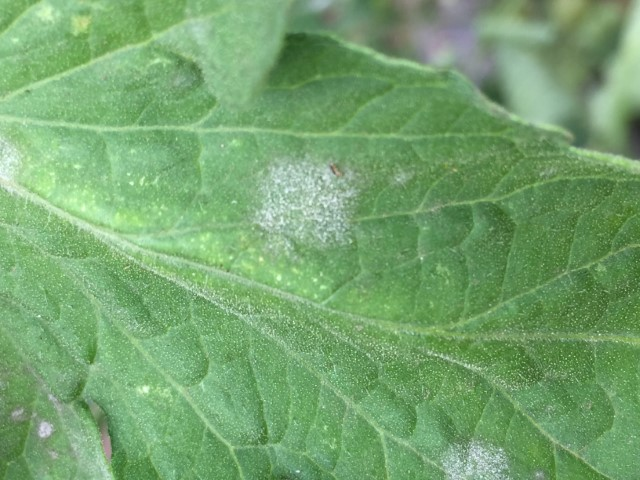oidio: (253, 153, 368, 253), (437, 436, 511, 480), (1, 140, 21, 194), (390, 164, 417, 186), (36, 420, 54, 439), (8, 407, 26, 421)
